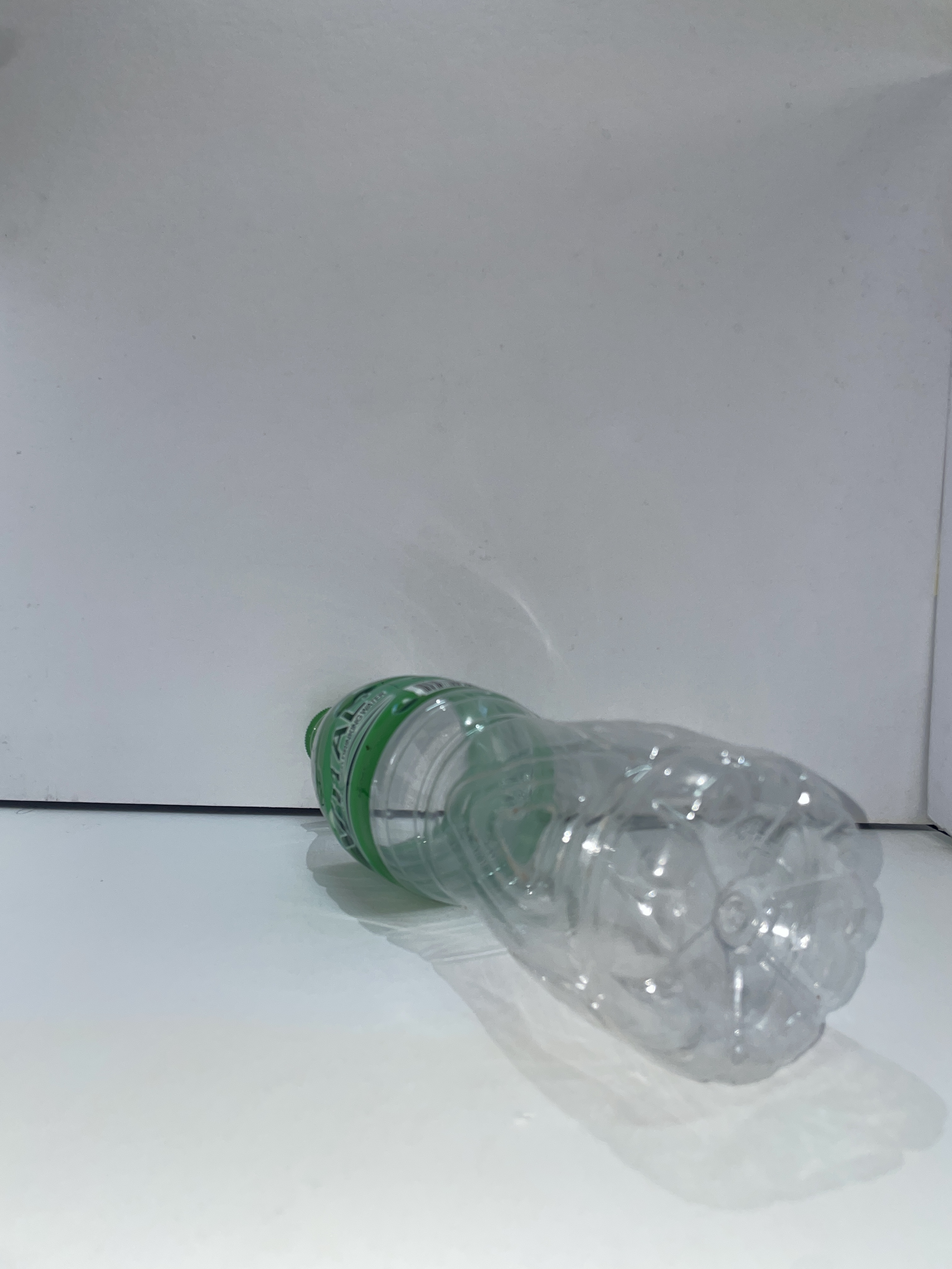Vital 1000ml: (307, 676, 881, 1084)
